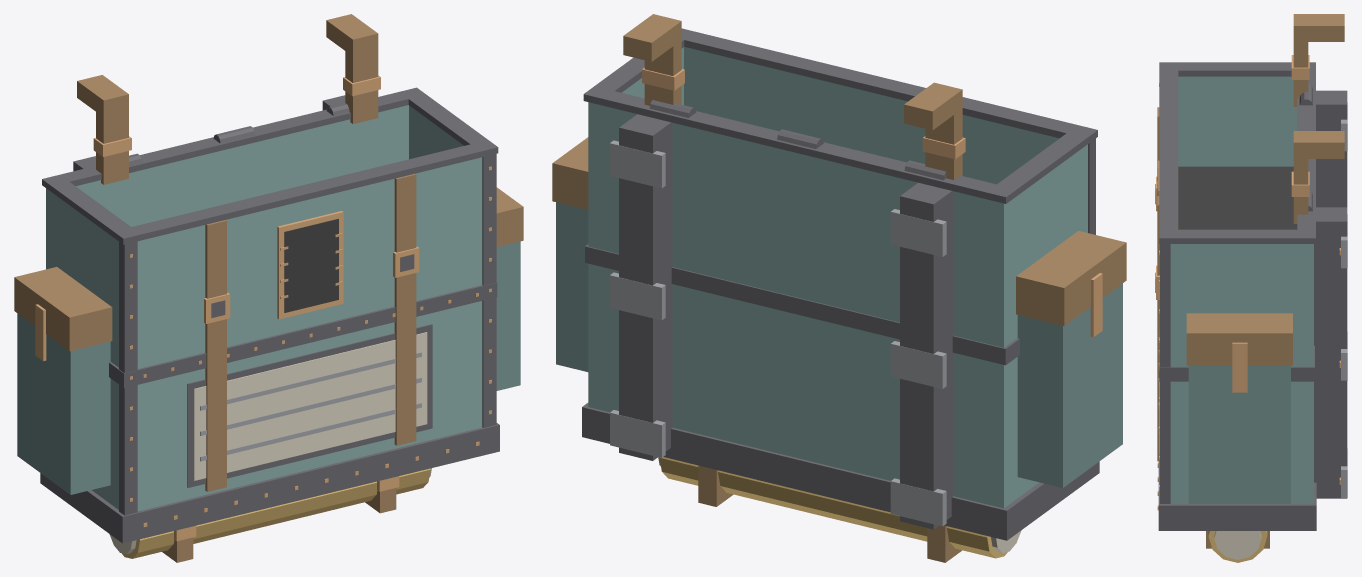
File: backpack.glb
The picture shows the model from 3 angles, left to right: view 1: azimuth 30°, elevation 25°; view 2: azimuth 150°, elevation 25°; view 3: azimuth 270°, elevation 25°; orthographic projection. The views are drawn at different scales.
Parts seen in each view (by area): view 1: Backpack; view 2: Backpack; view 3: Backpack.
Boxes of the visible parts, left/top/right/bottom form: Backpack: left=14, top=14, right=523, bottom=562; Backpack: left=552, top=14, right=1126, bottom=562; Backpack: left=1155, top=14, right=1347, bottom=562.
Bounding box in the file's own units: 3.98 × 3.61 × 1.5.
